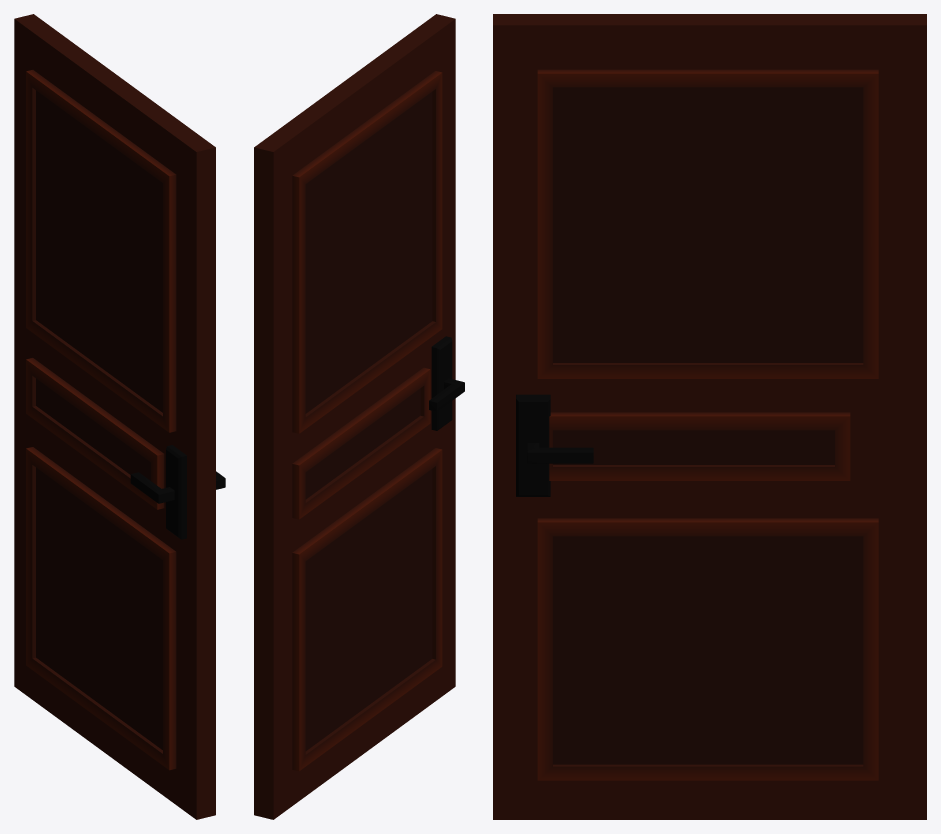
Rendered from Door Openable.fbx.
3 views of the same model, side by side, from view 1: azimuth 30°, elevation 25°; view 2: azimuth 150°, elevation 25°; view 3: azimuth 270°, elevation 25° (orthographic). The views are drawn at different scales.
Parts seen in each view (by area): view 1: polySurface216; view 2: polySurface216; view 3: polySurface216.
Boxes of the visible parts, x1,y1,x2,y2 form: polySurface216: (14,14,225,819); polySurface216: (254,14,464,819); polySurface216: (493,14,926,819).
Size of the model in its own units: 18.2 by 172 by 85.24.
